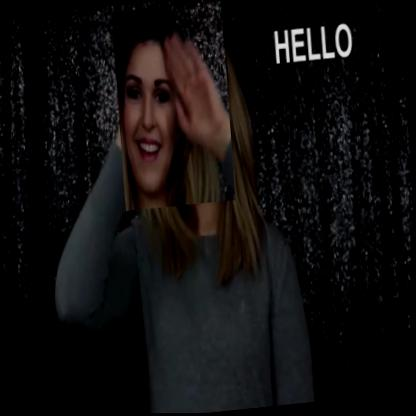Hello: (109, 1, 238, 212)
